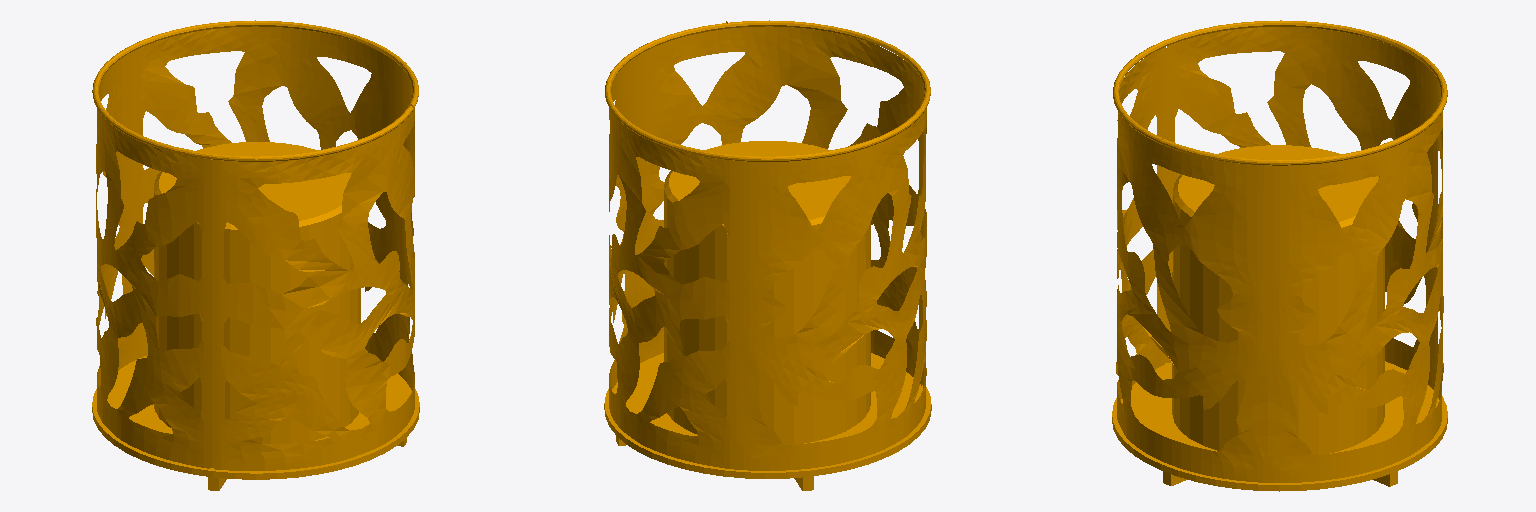
The robot description file, URDF, robot "none":
<robot name="none">
       <link name="none">
           <visual>
               <origin rpy="1.57 0 0" xyz="0 0 0" />
               <geometry>
                   <mesh filename="complements2.obj" />
               </geometry>
           </visual>
          <collision>
              <geometry>
                  <box size="0.871254 1.000000 0.871254" />
              </geometry>
          </collision>

          <inertial>
            <mass value="0.0" />
            <inertia ixx="0.0" ixy="0.0" ixz="0.0" iyy="0.0" iyz="0.0" izz="0.0" />
          </inertial>
      </link>
  </robot>

--- What the picture shows (computed from the rendered views, not written in the file) ---
Views: 3 orthographic renders of the robot side by side, from view 1: azimuth 30°, elevation 25°; view 2: azimuth 150°, elevation 25°; view 3: azimuth 270°, elevation 25°.
Model none with 1 links and 0 joints (none), rooted at none, posed every joint at zero.
Visible links, largest first — view 1: none; view 2: none; view 3: none.
Boxes of the visible links, x1,y1,x2,y2 form: none: [92, 20, 419, 490]; none: [604, 20, 931, 490]; none: [1112, 20, 1447, 491].
Bounding box of the posed robot: 0.8713 × 0.8713 × 1 m (x, y, z).
Meshes: 1 distinct files referenced, 1 mesh visuals loaded (1 OBJ).